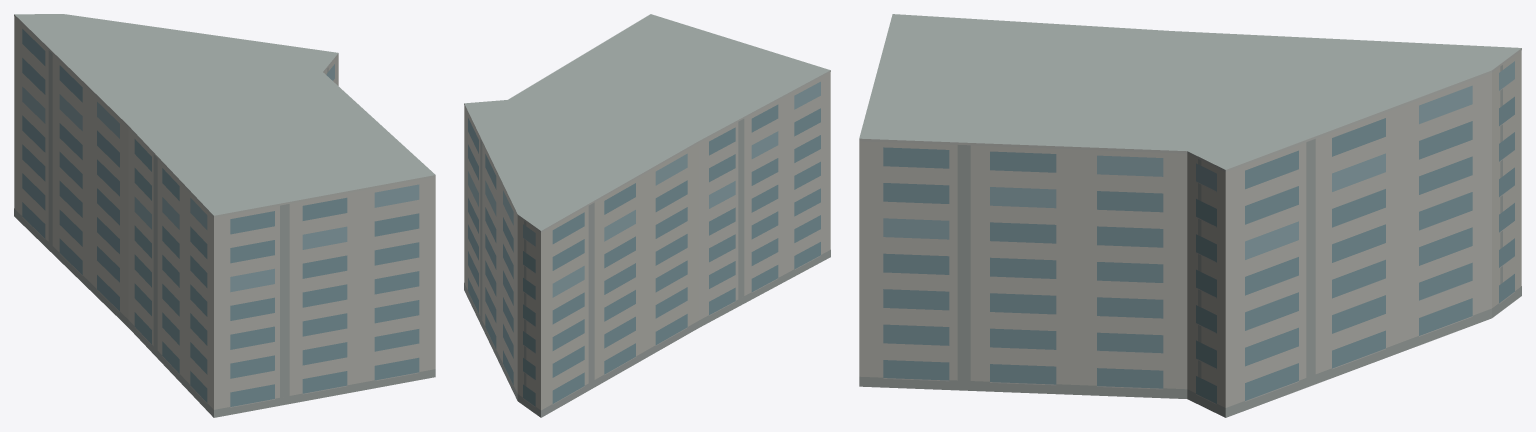
The model's file is survey-upis-33036594.glb.
3 renders of one model, left to right at view 1: azimuth 30°, elevation 25°; view 2: azimuth 150°, elevation 25°; view 3: azimuth 270°, elevation 25°, orthographic. The views are drawn at different scales.
Parts seen in each view (by area): view 1: survey-upis-33036594.tmp; view 2: survey-upis-33036594.tmp; view 3: survey-upis-33036594.tmp.
Part boxes in pixels (x1,y1,x2,y2): survey-upis-33036594.tmp: (14, 14, 435, 417); survey-upis-33036594.tmp: (464, 14, 830, 417); survey-upis-33036594.tmp: (859, 14, 1521, 417).
Bounding box in the file's own units: 34.55 × 25.6 × 62.02.
